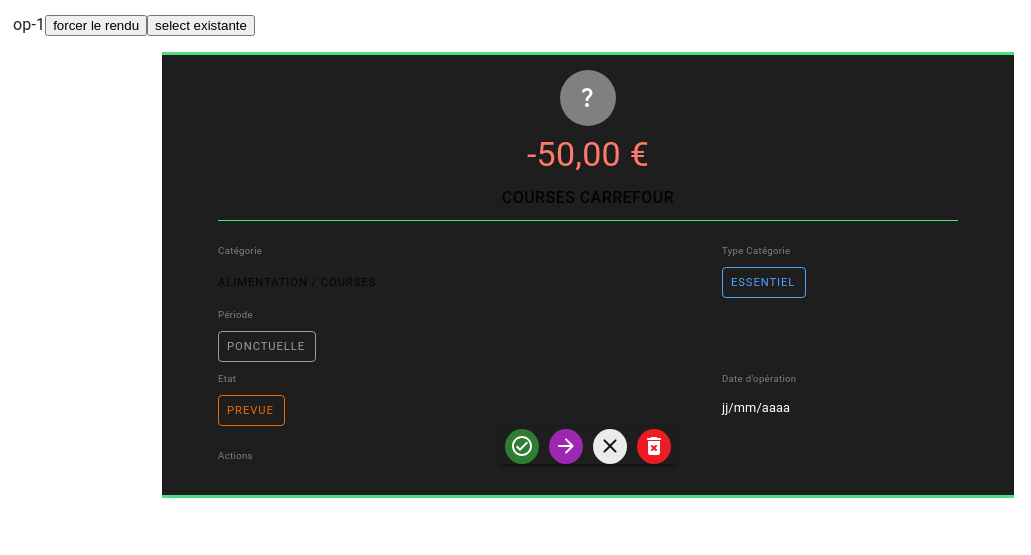
Test: OperationDetailPage - intégration › ouverture de l'édition au clic sur un champ › un clic sur le montant ouvre le champ de saisie sans autre interaction
Click the heading "-50,00 €" at (588, 155), box x1=527 y1=134 x2=649 y2=176
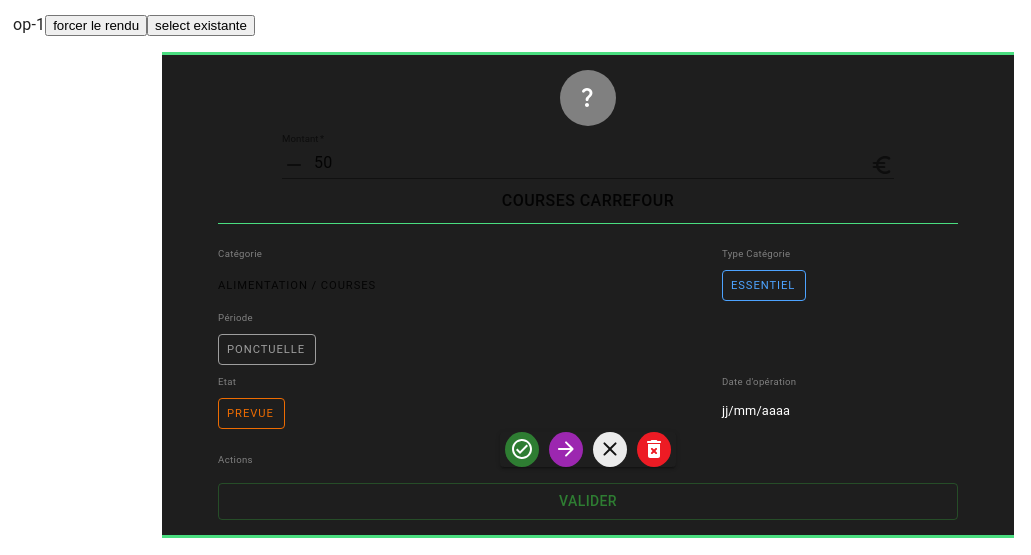
expect the field labelled "Montant *" is shown: met, box x1=314 y1=150 x2=862 y2=179
